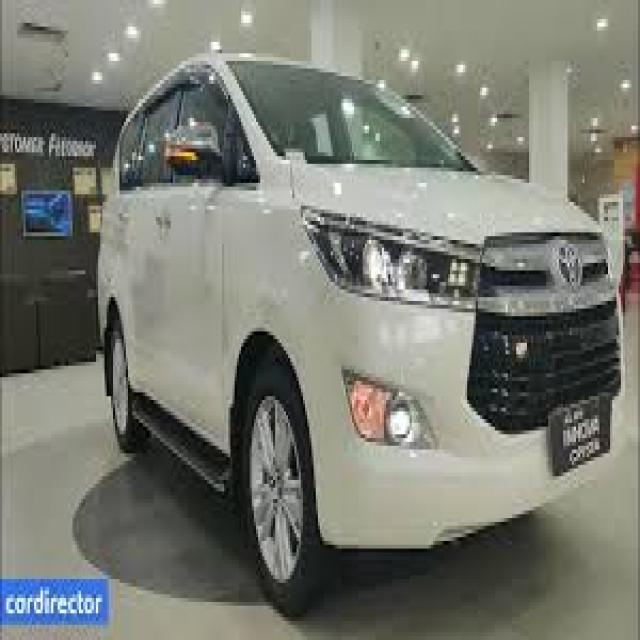light_vehicle: (97, 53, 624, 619)
